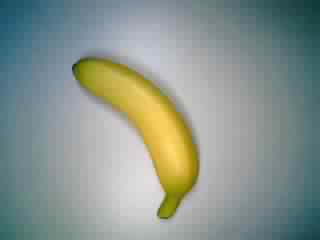banana: (71, 50, 208, 224)
